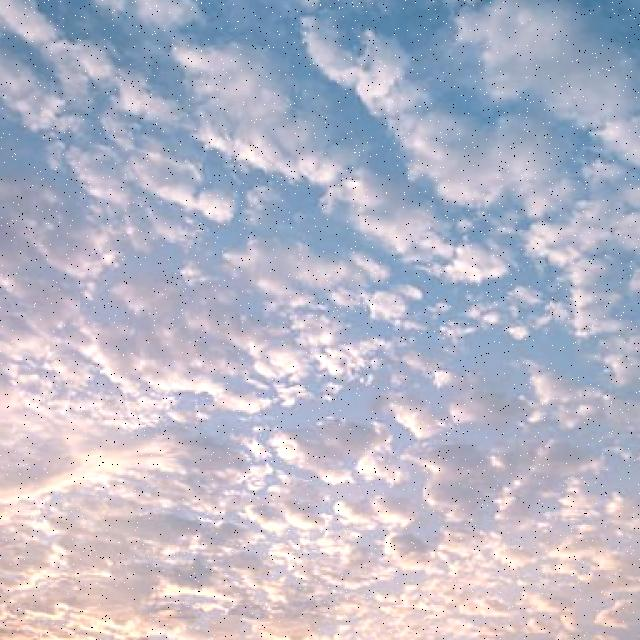Cc: (1, 13, 640, 598)
